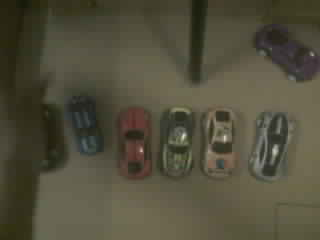Car: (256, 25, 319, 80), (250, 112, 293, 180), (118, 107, 151, 178), (160, 107, 193, 176), (202, 108, 234, 176), (70, 96, 102, 152)
